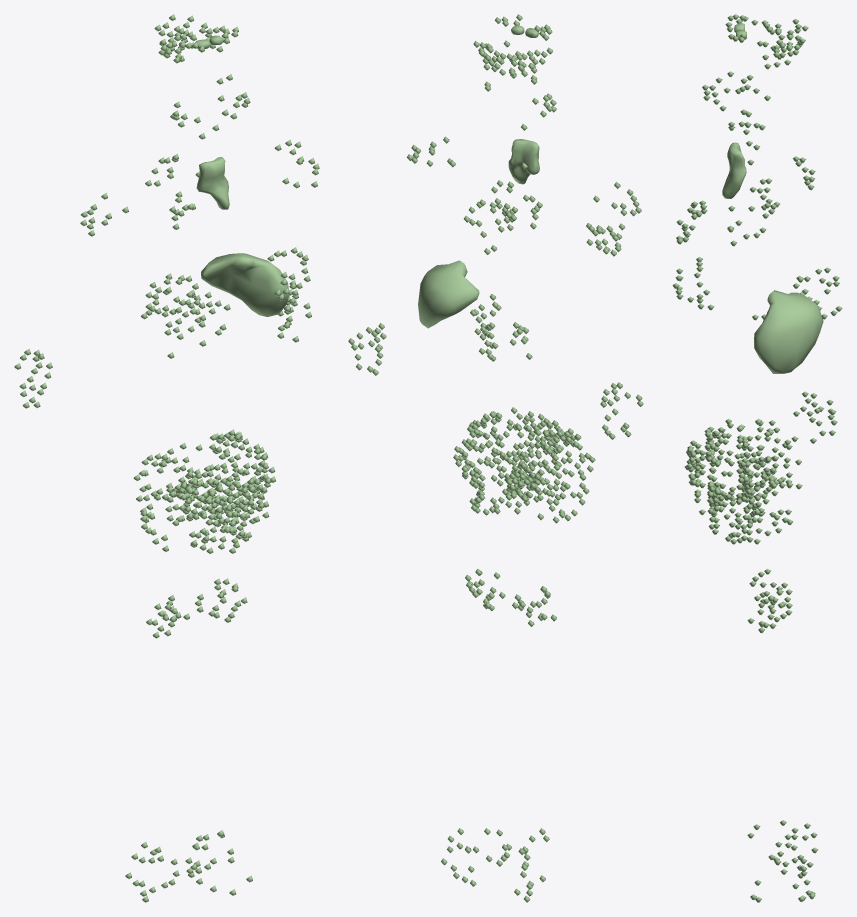
The model's file is icrp_adult_male.lymphatic.LOD2.glb.
3 views of the same model, side by side, from view 1: azimuth 30°, elevation 25°; view 2: azimuth 150°, elevation 25°; view 3: azimuth 270°, elevation 25° (orthographic). The views are drawn at different scales.
Visible parts, largest first — view 1: ICRP.ADULT.MALE.LYMPHATIC.LYMPHATIC_NODES_TRUNK, ICRP.ADULT.MALE.LYMPHATIC.SPLEEN, ICRP.ADULT.MALE.LYMPHATIC.LYMPHATIC_NODES_THORACIC, ICRP.ADULT.MALE.LYMPHATIC.LYMPHATIC_NODES_ET, ICRP.ADULT.MALE.LYMPHATIC.LYMPHATIC_NODES_LEGS, ICRP.ADULT.MALE.LYMPHATIC.THYMUS, ICRP.ADULT.MALE.LYMPHATIC.LYMPHATIC_NODES_ARMS, ICRP.ADULT.MALE.LYMPHATIC.LYMPHATIC_NODES_HEAD; view 2: ICRP.ADULT.MALE.LYMPHATIC.LYMPHATIC_NODES_TRUNK, ICRP.ADULT.MALE.LYMPHATIC.SPLEEN, ICRP.ADULT.MALE.LYMPHATIC.LYMPHATIC_NODES_THORACIC, ICRP.ADULT.MALE.LYMPHATIC.LYMPHATIC_NODES_ET, ICRP.ADULT.MALE.LYMPHATIC.LYMPHATIC_NODES_ARMS, ICRP.ADULT.MALE.LYMPHATIC.LYMPHATIC_NODES_LEGS, ICRP.ADULT.MALE.LYMPHATIC.THYMUS; view 3: ICRP.ADULT.MALE.LYMPHATIC.LYMPHATIC_NODES_TRUNK, ICRP.ADULT.MALE.LYMPHATIC.SPLEEN, ICRP.ADULT.MALE.LYMPHATIC.LYMPHATIC_NODES_ET, ICRP.ADULT.MALE.LYMPHATIC.LYMPHATIC_NODES_LEGS, ICRP.ADULT.MALE.LYMPHATIC.LYMPHATIC_NODES_ARMS, ICRP.ADULT.MALE.LYMPHATIC.THYMUS, ICRP.ADULT.MALE.LYMPHATIC.LYMPHATIC_NODES_THORACIC, ICRP.ADULT.MALE.LYMPHATIC.LYMPHATIC_NODES_HEAD.
Part boxes in pixels (x1,y1,x2,y2): ICRP.ADULT.MALE.LYMPHATIC.LYMPHATIC_NODES_TRUNK: [80, 139, 319, 638]; ICRP.ADULT.MALE.LYMPHATIC.SPLEEN: [201, 253, 289, 316]; ICRP.ADULT.MALE.LYMPHATIC.LYMPHATIC_NODES_THORACIC: [141, 153, 230, 358]; ICRP.ADULT.MALE.LYMPHATIC.LYMPHATIC_NODES_ET: [154, 14, 238, 63]; ICRP.ADULT.MALE.LYMPHATIC.LYMPHATIC_NODES_LEGS: [125, 830, 252, 902]; ICRP.ADULT.MALE.LYMPHATIC.THYMUS: [196, 157, 229, 209]; ICRP.ADULT.MALE.LYMPHATIC.LYMPHATIC_NODES_ARMS: [14, 289, 311, 408]; ICRP.ADULT.MALE.LYMPHATIC.LYMPHATIC_NODES_HEAD: [170, 74, 250, 139]; ICRP.ADULT.MALE.LYMPHATIC.LYMPHATIC_NODES_TRUNK: [407, 136, 641, 626]; ICRP.ADULT.MALE.LYMPHATIC.SPLEEN: [418, 260, 479, 328]; ICRP.ADULT.MALE.LYMPHATIC.LYMPHATIC_NODES_THORACIC: [470, 162, 542, 361]; ICRP.ADULT.MALE.LYMPHATIC.LYMPHATIC_NODES_ET: [473, 14, 553, 78]; ICRP.ADULT.MALE.LYMPHATIC.LYMPHATIC_NODES_ARMS: [348, 323, 643, 439]; ICRP.ADULT.MALE.LYMPHATIC.LYMPHATIC_NODES_LEGS: [441, 828, 549, 902]; ICRP.ADULT.MALE.LYMPHATIC.THYMUS: [508, 139, 539, 184]; ICRP.ADULT.MALE.LYMPHATIC.LYMPHATIC_NODES_TRUNK: [672, 111, 802, 633]; ICRP.ADULT.MALE.LYMPHATIC.SPLEEN: [754, 290, 823, 373]; ICRP.ADULT.MALE.LYMPHATIC.LYMPHATIC_NODES_ET: [725, 14, 808, 69]; ICRP.ADULT.MALE.LYMPHATIC.LYMPHATIC_NODES_LEGS: [747, 820, 817, 902]; ICRP.ADULT.MALE.LYMPHATIC.LYMPHATIC_NODES_ARMS: [793, 267, 842, 443]; ICRP.ADULT.MALE.LYMPHATIC.THYMUS: [722, 142, 746, 198]; ICRP.ADULT.MALE.LYMPHATIC.LYMPHATIC_NODES_THORACIC: [747, 156, 819, 320]; ICRP.ADULT.MALE.LYMPHATIC.LYMPHATIC_NODES_HEAD: [702, 71, 770, 128].
Bounding box in the file's own units: 0.4042 × 1.19 × 0.2096.
